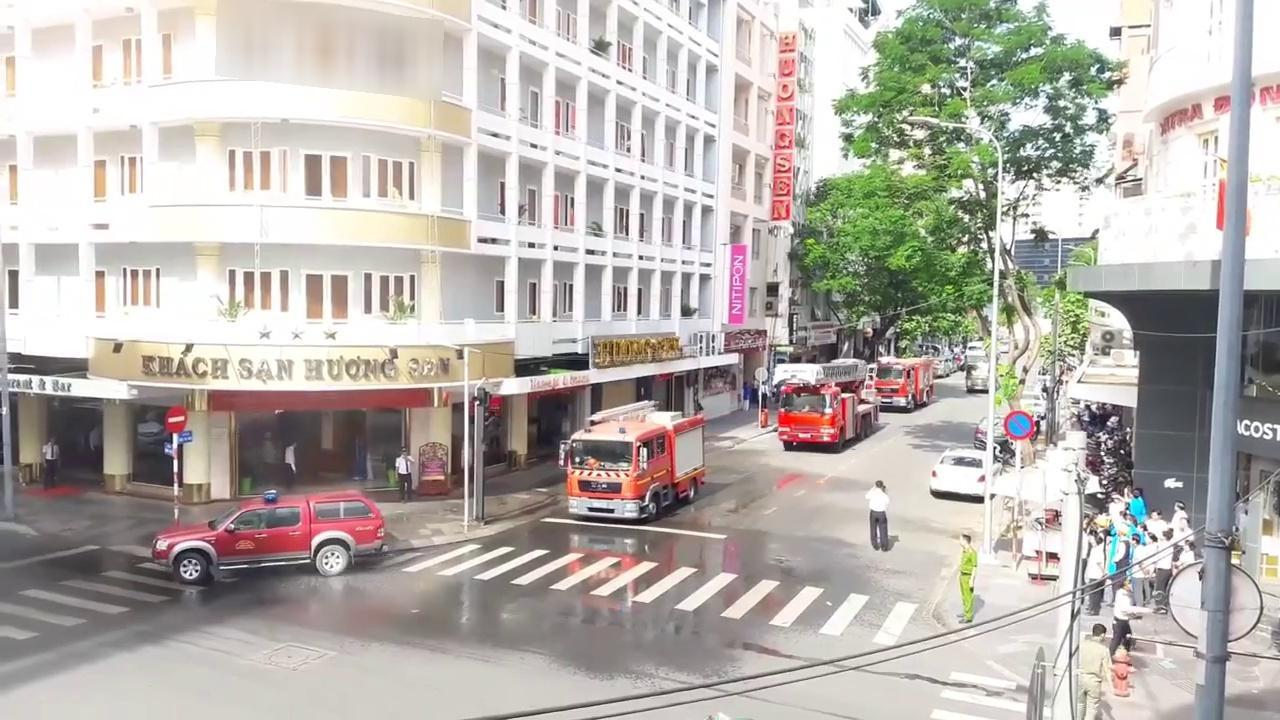xe cuu hoa: (564, 401, 704, 518), (774, 362, 876, 449), (863, 355, 932, 411)
xe hoi: (149, 486, 389, 584), (928, 449, 995, 500)
